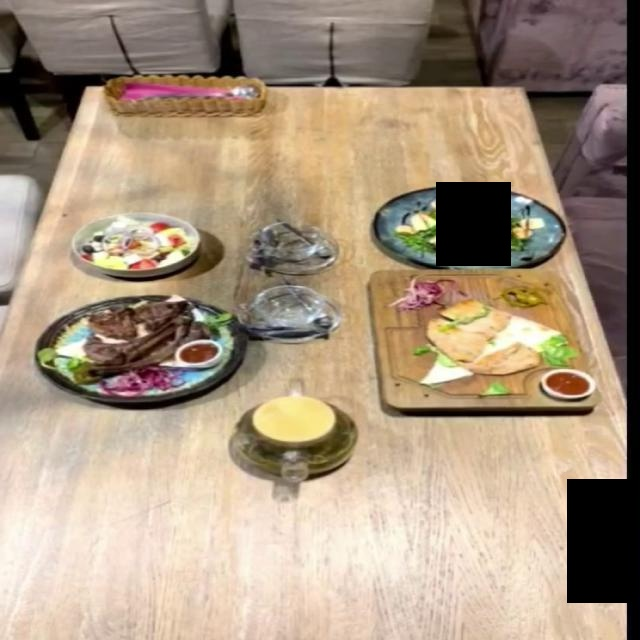meat: (373, 274, 602, 410), (33, 294, 249, 404)
salad: (374, 185, 568, 267), (70, 211, 201, 276)
tea: (230, 394, 359, 480)
